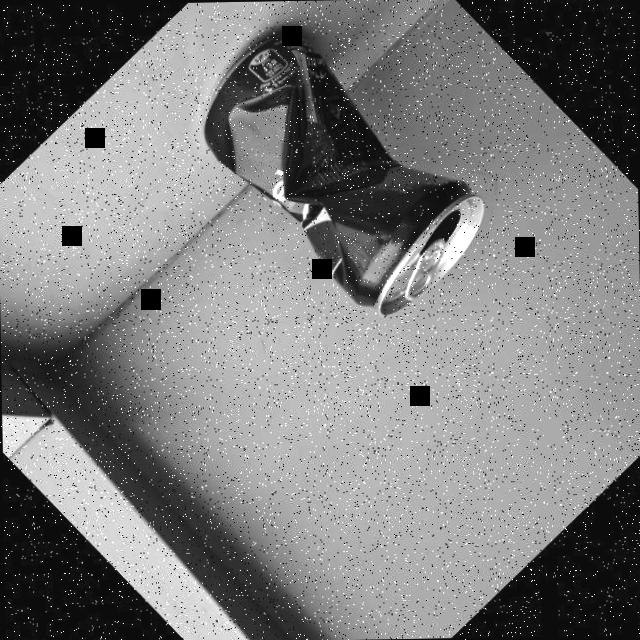can: (192, 23, 488, 324)
